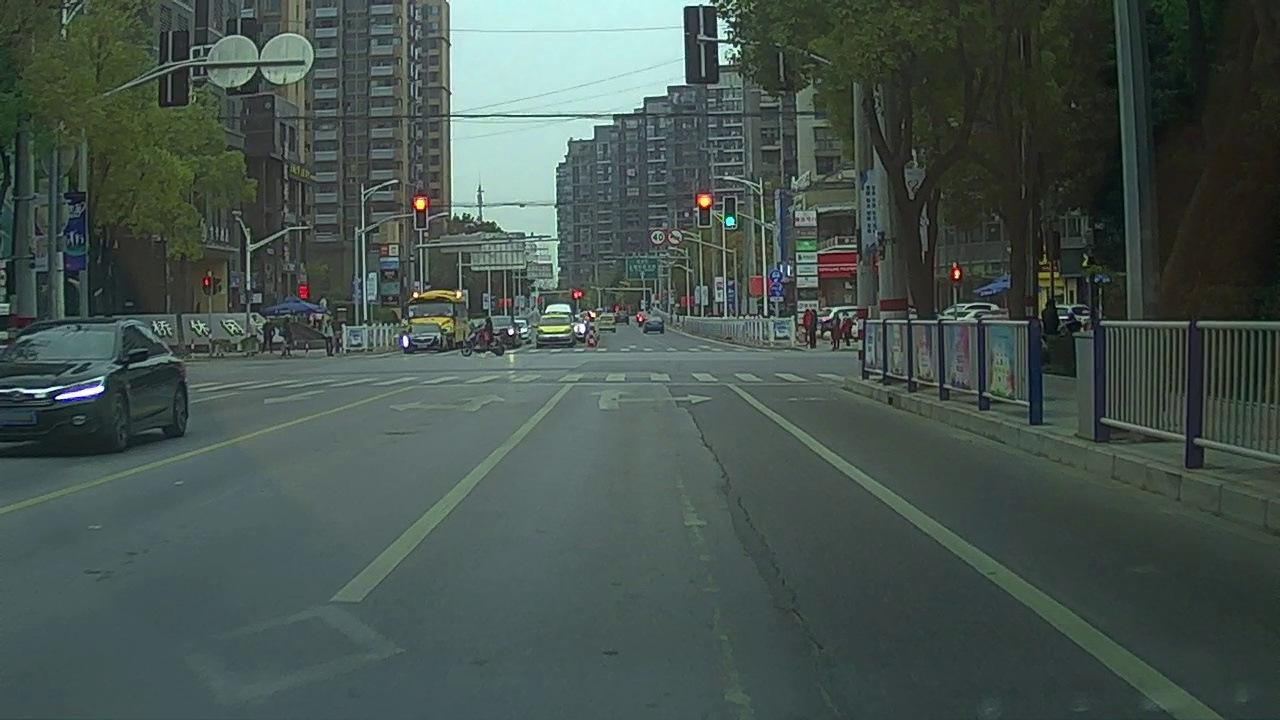traffic_light: (414, 198, 425, 228), (726, 196, 736, 228), (699, 195, 709, 226)
